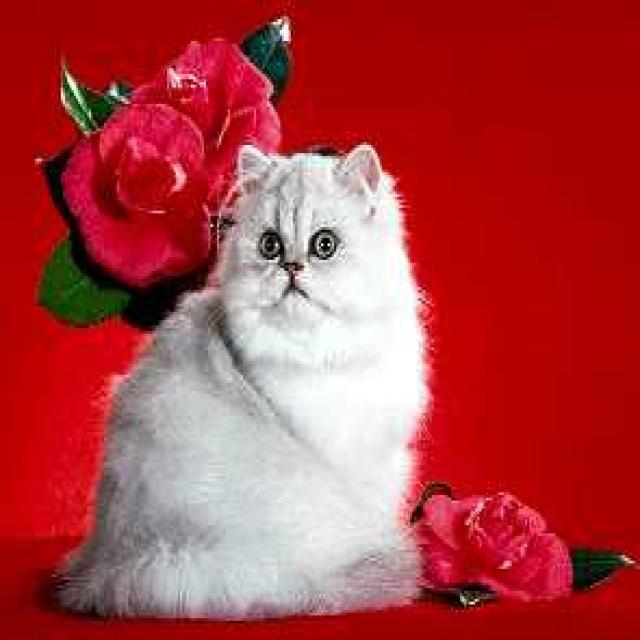Persian: (216, 139, 424, 364)
